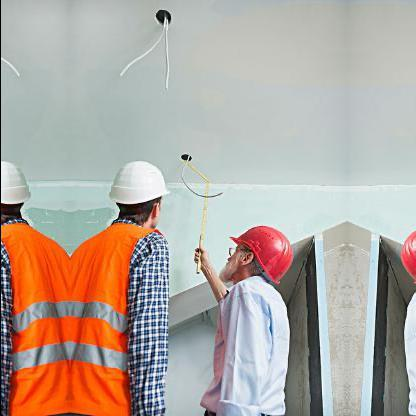Helmet: (100, 152, 176, 235), (224, 215, 302, 287), (0, 151, 37, 236), (387, 214, 413, 288)
